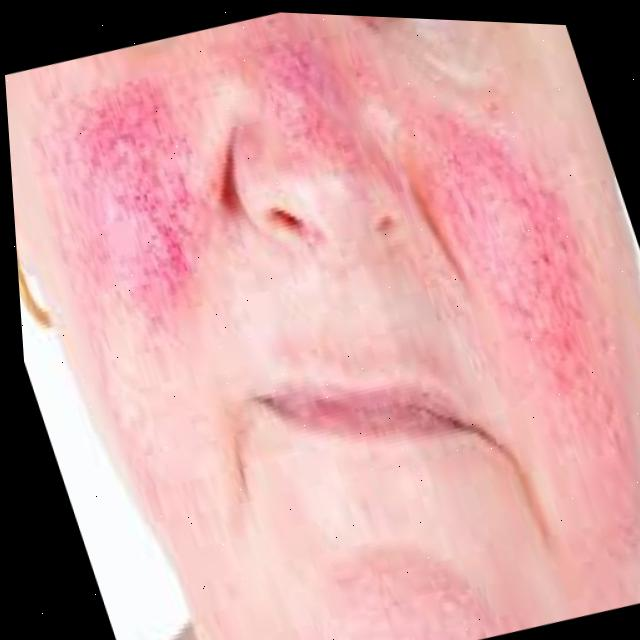Rosacea: (417, 106, 640, 422), (18, 65, 249, 331), (262, 34, 365, 140)
